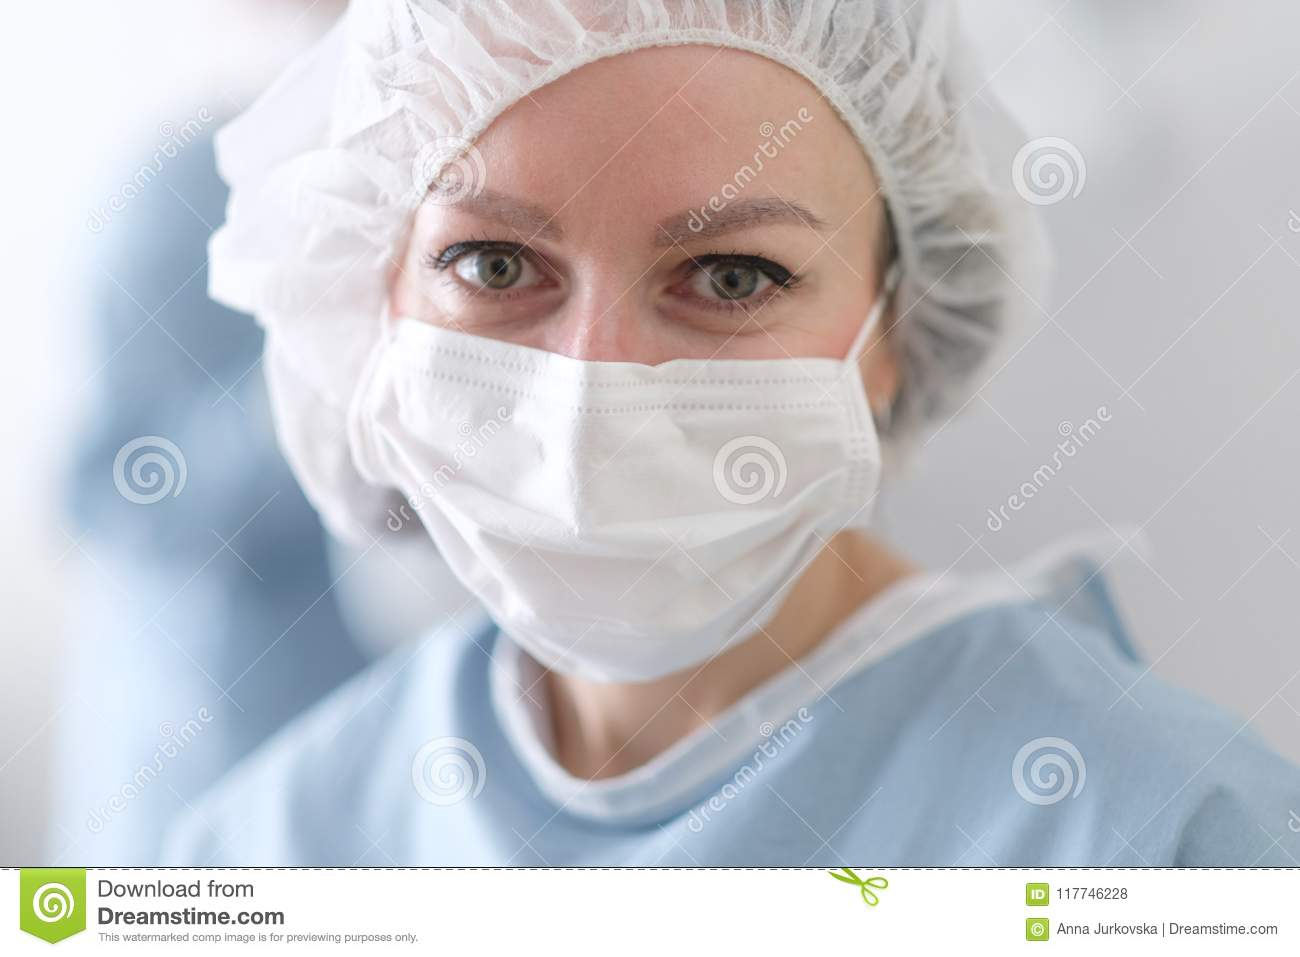mask: (358, 345, 895, 654)
